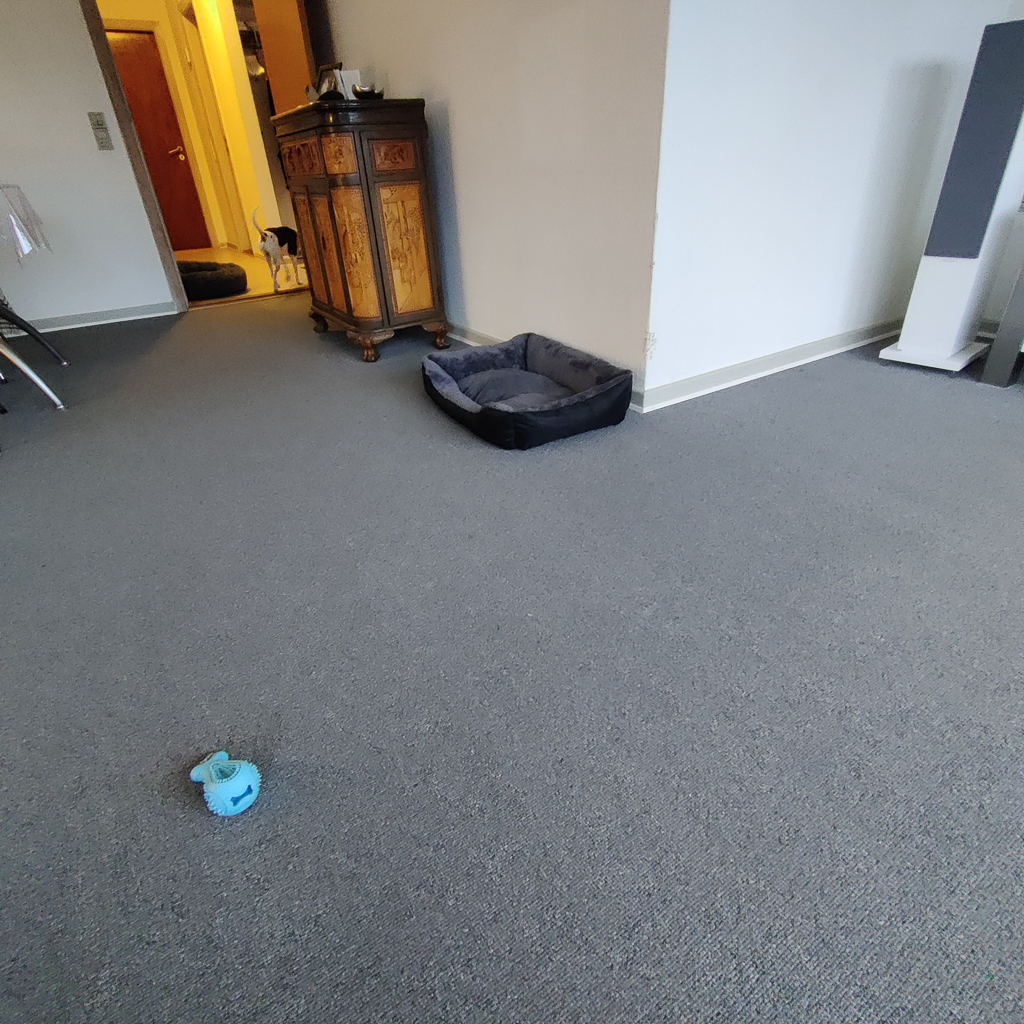Dog: (246, 202, 311, 297)
